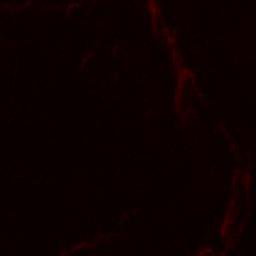debris: (220, 194, 253, 242), (230, 139, 254, 191), (67, 236, 99, 255), (194, 243, 241, 254), (146, 1, 160, 33), (173, 83, 184, 117), (166, 25, 177, 58), (177, 62, 191, 81)
